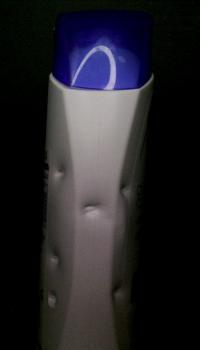dent_unacceptable: (76, 198, 112, 226), (48, 160, 76, 188), (44, 246, 74, 270), (111, 176, 136, 203), (106, 281, 127, 310), (43, 288, 68, 311)
